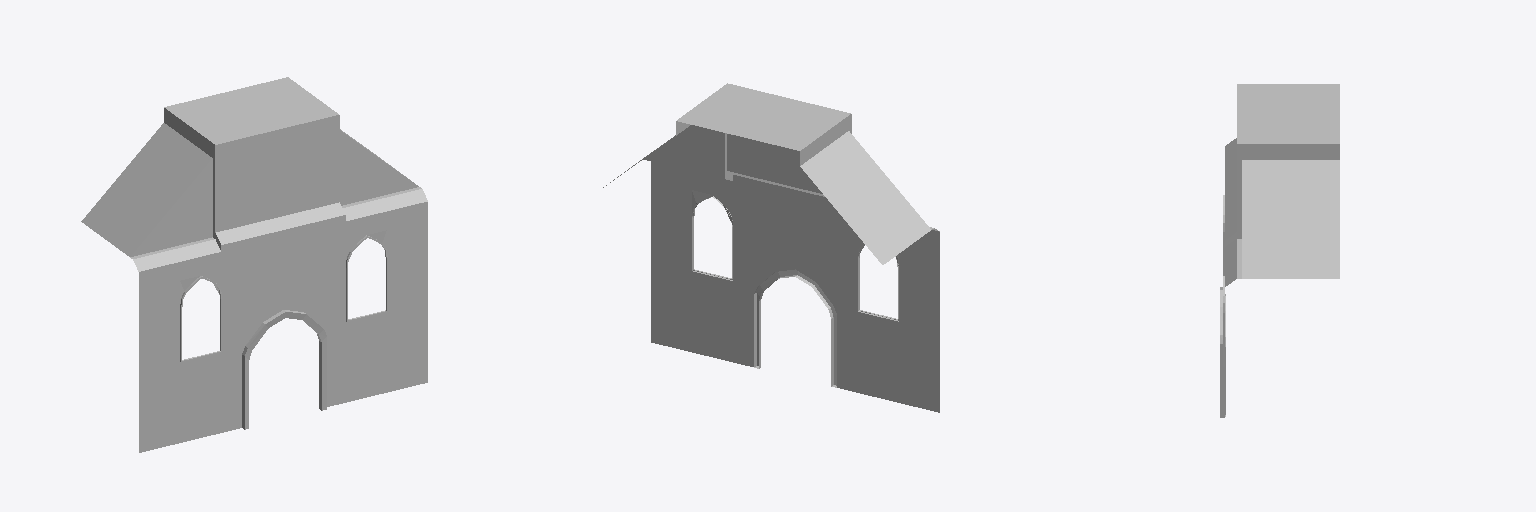
The model's file is fachada.obj.
3 renders of one model, left to right at view 1: azimuth 30°, elevation 25°; view 2: azimuth 150°, elevation 25°; view 3: azimuth 270°, elevation 25°, orthographic.
Visible parts, largest first — view 1: fachada_Cube_Cube.001; view 2: fachada_Cube_Cube.001; view 3: fachada_Cube_Cube.001.
Boxes of the visible parts, box(x1,y1,x2,y2) form: fachada_Cube_Cube.001: box(81, 77, 427, 452); fachada_Cube_Cube.001: box(603, 83, 939, 412); fachada_Cube_Cube.001: box(1220, 84, 1339, 417).
Size of the model in its own units: 65.77 by 61.57 by 23.61.